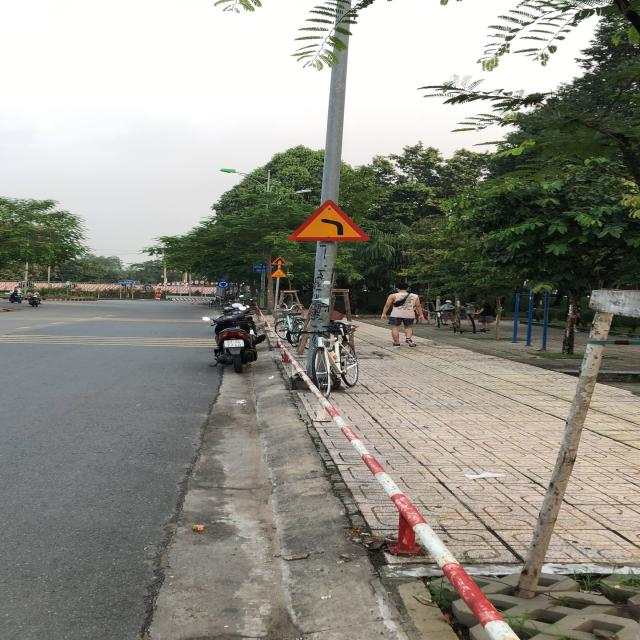Bien bao cho ngoat nguy hiem: (286, 197, 371, 243)
Bien bao di cham: (269, 266, 287, 278)
Bien bao noi giao nhau chay theo vong xuyen: (217, 281, 230, 288)
